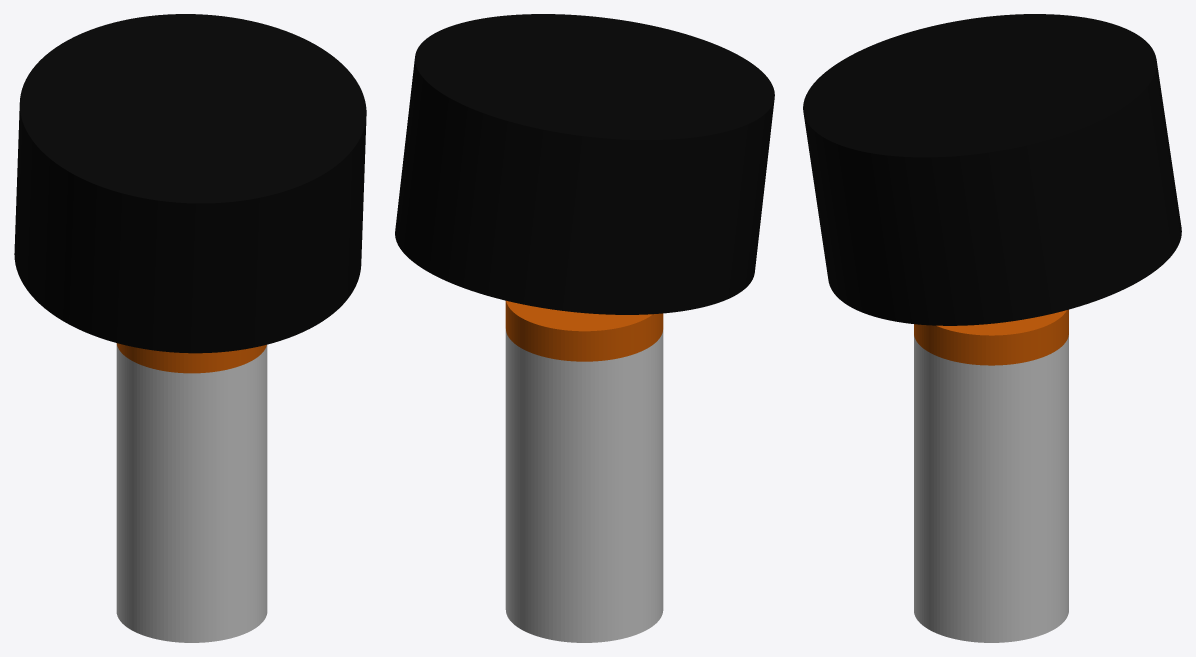
Rendered from lamp6.obj.
3 renders of one model, left to right at view 1: azimuth 30°, elevation 25°; view 2: azimuth 150°, elevation 25°; view 3: azimuth 270°, elevation 25°, orthographic. The views are drawn at different scales.
Parts seen in each view (by area): view 1: Cylinder.002, Cylinder, Cylinder.001; view 2: Cylinder.002, Cylinder, Cylinder.001; view 3: Cylinder.002, Cylinder, Cylinder.001.
Boxes of the visible parts, bbox=[...] form: Cylinder.002: bbox=[14, 14, 366, 353]; Cylinder: bbox=[116, 344, 267, 642]; Cylinder.001: bbox=[116, 343, 266, 373]; Cylinder.002: bbox=[395, 14, 774, 314]; Cylinder: bbox=[505, 329, 663, 642]; Cylinder.001: bbox=[505, 300, 663, 361]; Cylinder.002: bbox=[803, 14, 1181, 325]; Cylinder: bbox=[914, 335, 1068, 642]; Cylinder.001: bbox=[914, 309, 1068, 365].
Size of what is drawn, in the model's own units: 4.7 by 7.75 by 4.88.
